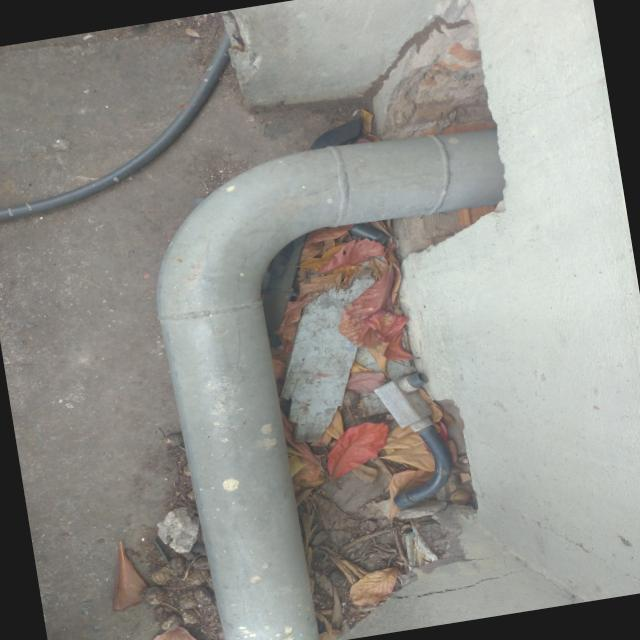gas: (158, 130, 478, 640)
